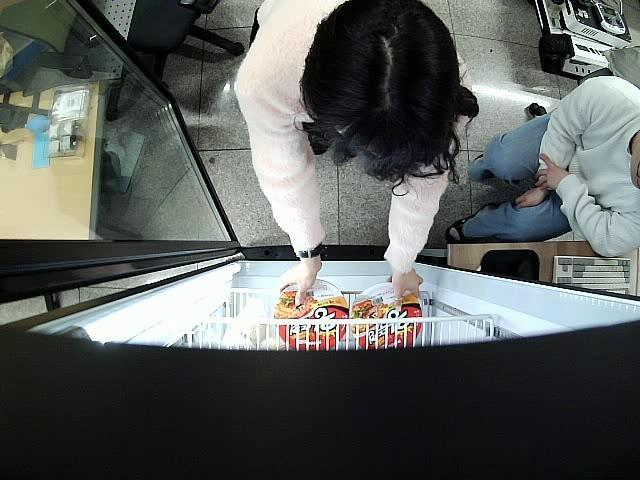10_wangTtukkeong: (274, 280, 347, 354), (350, 282, 422, 350)
